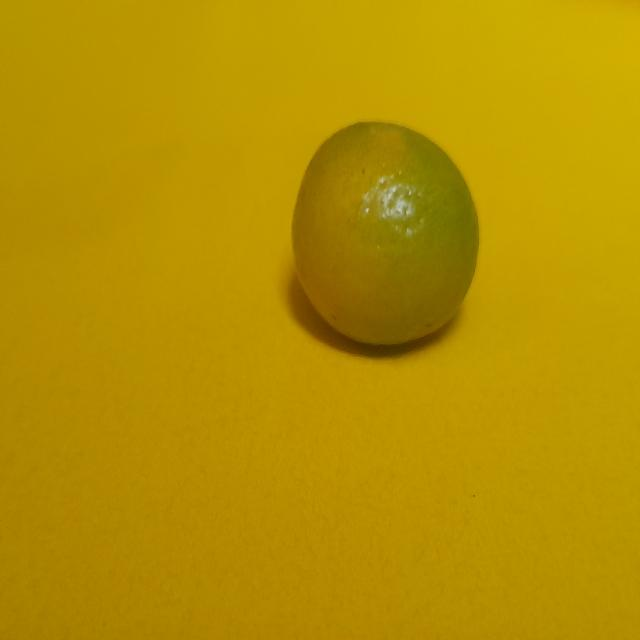greening: (278, 109, 486, 358)
